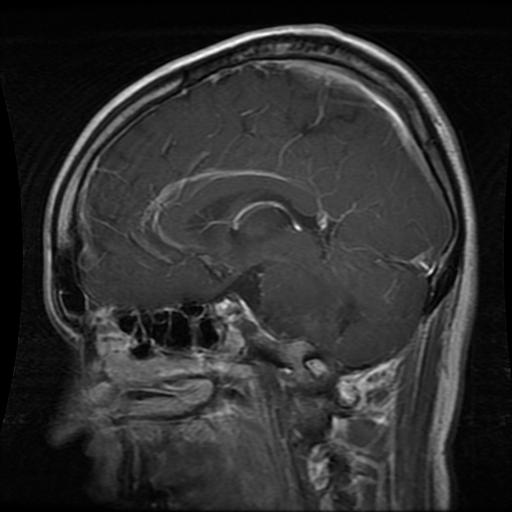Gliomia_tumour: (263, 266, 334, 330)
